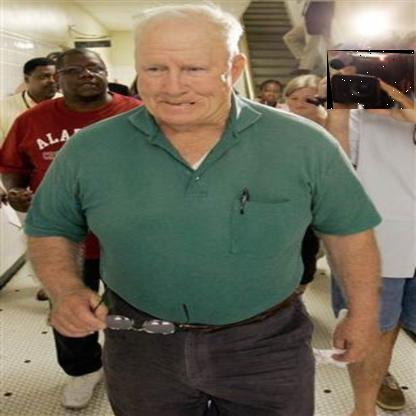Camera: (328, 51, 416, 111)
